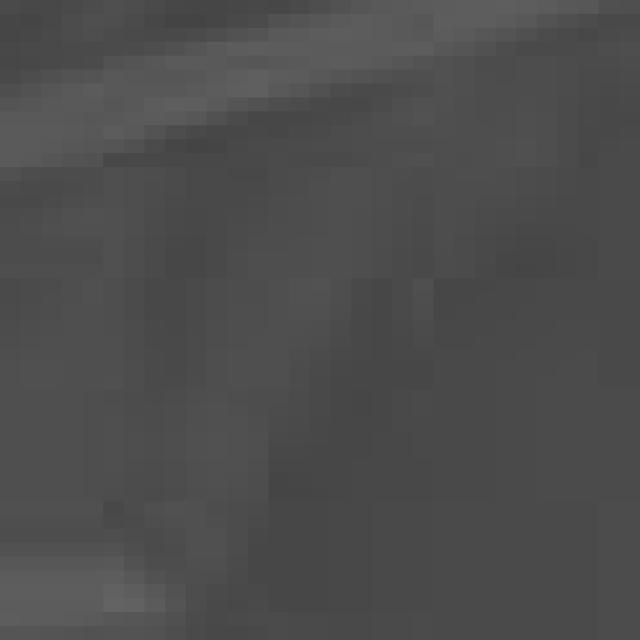fracture: (5, 2, 640, 636)
